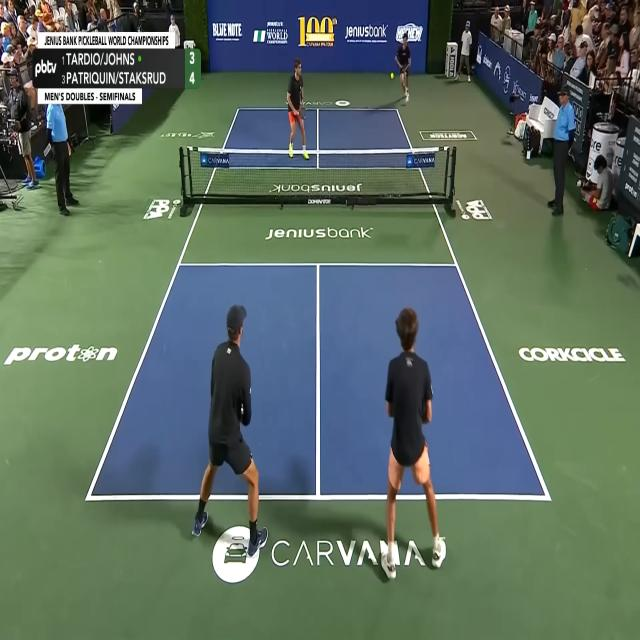ball: (389, 72, 395, 80)
